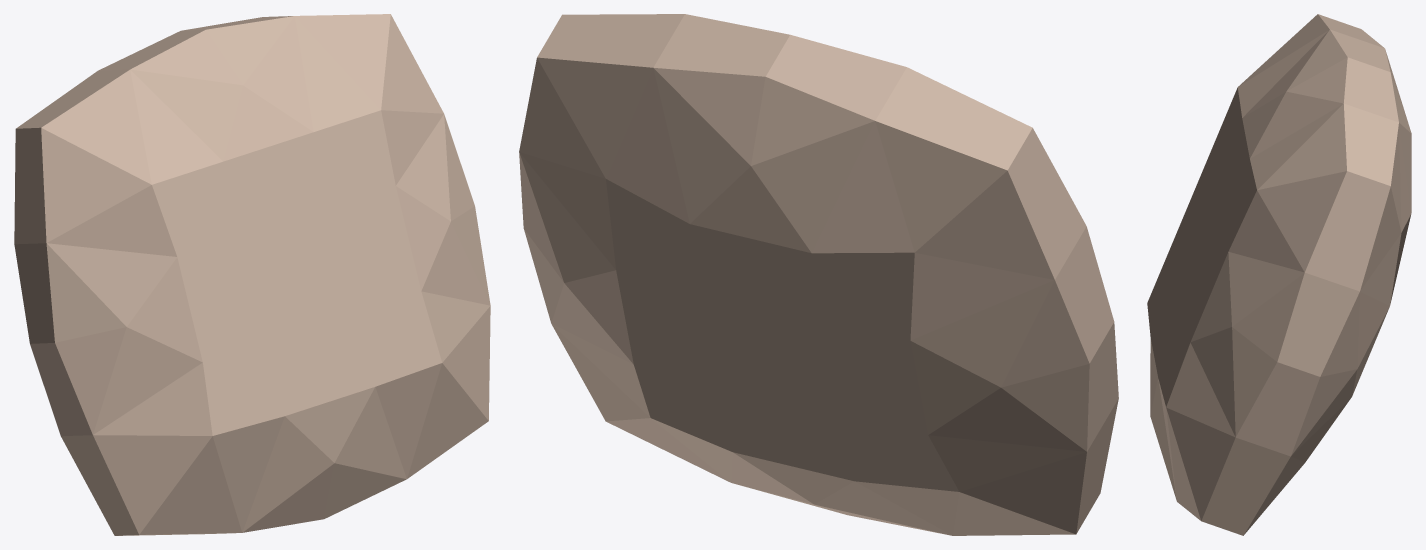
Rendered from Ruby.obj.
3 views of the same model, side by side, from view 1: azimuth 30°, elevation 25°; view 2: azimuth 150°, elevation 25°; view 3: azimuth 270°, elevation 25° (orthographic). The views are drawn at different scales.
Parts seen in each view (by area): view 1: Cylinder; view 2: Cylinder; view 3: Cylinder.
Boxes of the visible parts, bbox=[...] form: Cylinder: bbox=[14, 14, 490, 535]; Cylinder: bbox=[519, 14, 1118, 535]; Cylinder: bbox=[1147, 14, 1411, 535].
Size of the model in its own units: 44.59 by 42.98 by 24.26.
